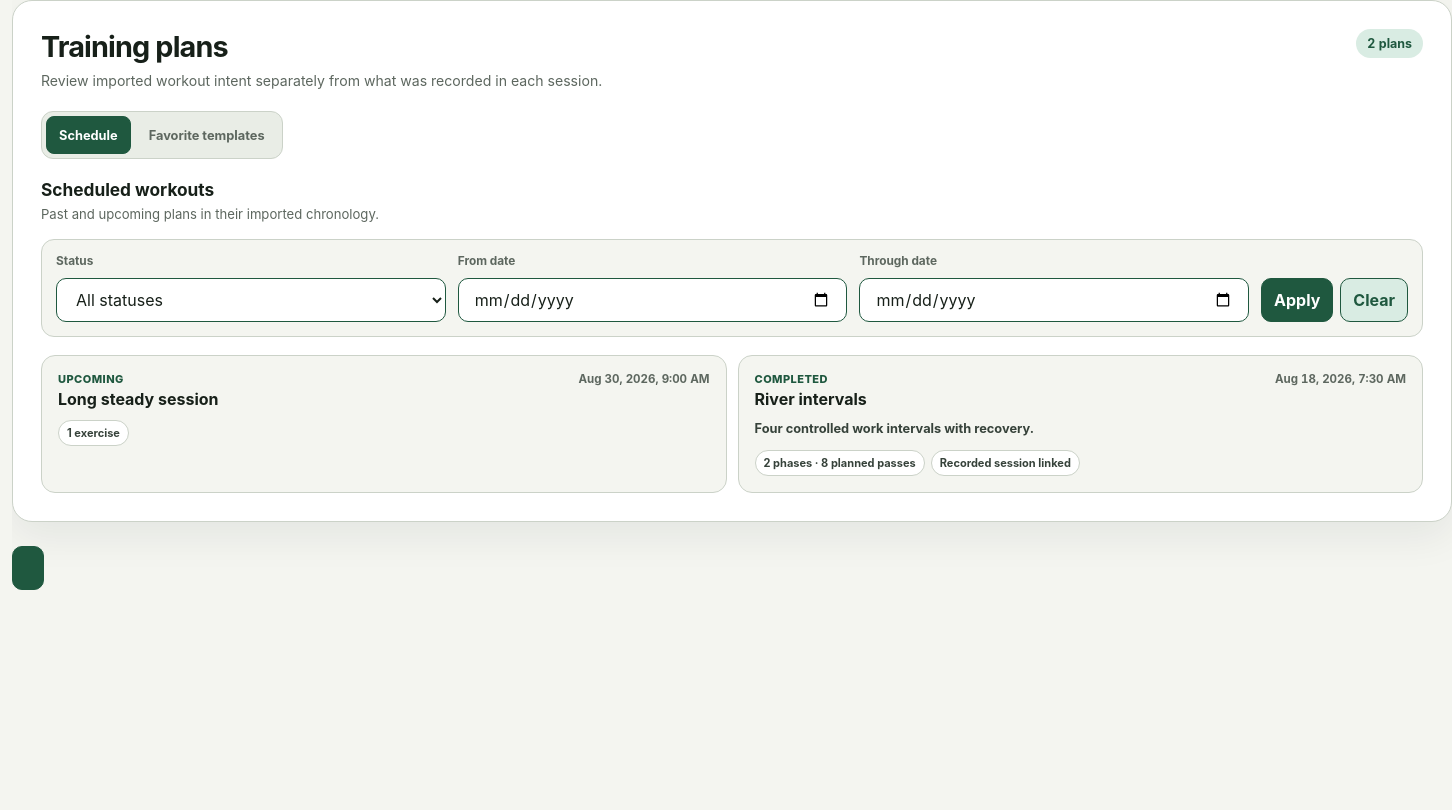
it: PlannedTrainingPanel › keeps reusable templates separate and sends only applicable filters
This screenshot has width=1452, height=810.
Expected: the heading "River intervals" is shown, [754,389,867,409]
Click the button "Favorite templates": (207,135) [136,116,278,154]
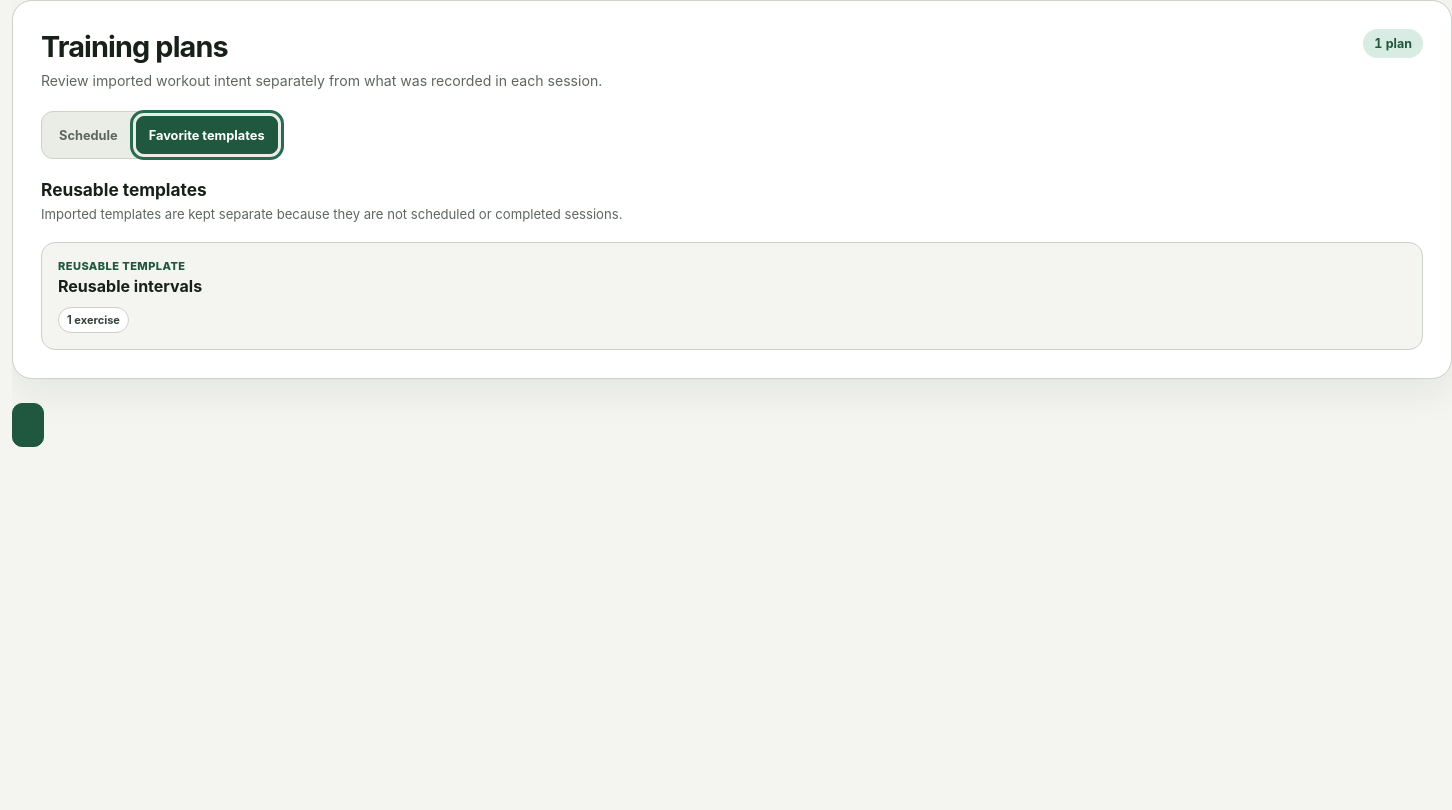
Now the heading "Reusable intervals" is shown, box [58,276,202,296]
